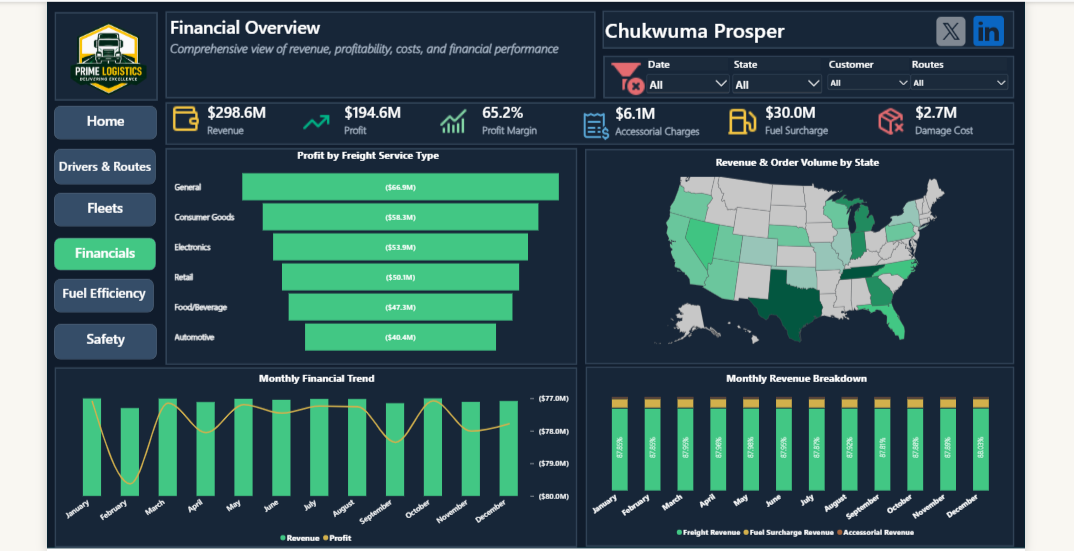

Layout of this report page (visuals, bound fields, positions):
{"tool":"powerbi","page":{"name":"Financials","canvas":[1920,1080],"ordinal":3},"visuals":[{"type":"textbox","title":"Financial Overview","box":[241.5,24.8,834.1,167.2],"z":0},{"type":"cardVisual","fields":{"Data":["loads.Total Revenue"]},"box":[298.2,194.4,208.5,82.6],"z":0,"group":"g2"},{"type":"group","id":"g1","title":"Group 6","box":[496.7,194.4,270.7,81.6],"z":0,"group":"g7"},{"type":"group","id":"g2","title":"Group 7","box":[236.3,194.4,268.6,83.8],"z":1000,"group":"g7"},{"type":"lineClusteredColumnComboChart","title":"Monthly Financial Trend","fields":{"Category":["loads.load_date.Variation.Date Hierarchy.Month"],"Y":["loads.Total Revenue"],"Y2":["loads.Profit"]},"box":[18.6,724.6,1024,342.7],"z":1000},{"type":"image","title":"Clear File","box":[1099.3,109,75,72.7],"z":2000},{"type":"group","id":"g3","title":"Group 1","box":[759.3,194.4,290.1,83.8],"z":2000,"group":"g7"},{"type":"cardVisual","fields":{"Data":["loads.Acc. Charges Revenue"]},"box":[1099.3,194.4,244.9,85.9],"z":2000,"group":"g4"},{"type":"image","box":[1806.5,21.6,84.4,70.7],"z":3000},{"type":"group","id":"g4","title":"Group 2","box":[1041.1,194.4,303.2,85.9],"z":3000,"group":"g7"},{"type":"image","box":[1726,23.6,98.2,68.7],"z":4000},{"type":"group","id":"g5","title":"Group 3","box":[1612.3,194.4,280.8,82.6],"z":4000,"group":"g7"},{"type":"cardVisual","fields":{"Data":["maintenance_records.Damage Cost"]},"box":[1688.7,194.4,204.4,82.6],"z":4000,"group":"g5"},{"type":"cardVisual","fields":{"Data":["loads.Profit"]},"box":[567.6,194.4,200.3,82.6],"z":5000,"group":"g1"},{"type":"group","id":"g6","title":"Group 4","box":[1336.1,194.4,284.4,82.6],"z":5000,"group":"g7"},{"type":"actionButton","box":[14.5,375.7,200.3,66.1],"z":5000},{"type":"actionButton","box":[14.5,544.2,196.1,66.1],"z":6000},{"type":"actionButton","box":[14.5,462.9,200.3,64],"z":7000},{"type":"cardVisual","fields":{"Data":["loads.Profit Margin"]},"box":[839.8,194.4,208.5,82.6],"z":8000,"group":"g3"},{"type":"hundredPercentStackedColumnChart","title":"Monthly Revenue Breakdown","fields":{"Category":["loads.load_date.Variation.Date Hierarchy.Month"],"Y":["loads.Tot. Revenue","loads.Fuel Surcharge Revenue","loads.Acc. Charges Revenue"]},"box":[1059.1,724.6,834.1,342.7],"z":8000},{"type":"actionButton","box":[14.5,631.7,202.3,70.2],"z":9000},{"type":"actionButton","box":[14.5,287.8,200.3,70.2],"z":10000},{"type":"actionButton","box":[14.5,204.4,202.3,66.1],"z":11000},{"type":"textbox","title":"Chukwuma Prosper","box":[1096.3,26.8,491.4,64],"z":12000},{"type":"image","box":[18.6,24.8,196.1,167.2],"z":13000},{"type":"shapeMap","title":"Revenue & Order Volume by State","fields":{"Category":["facilities.state"],"Value":["loads.Total Revenue"]},"box":[1057,287,834.1,415],"z":14000},{"type":"cardVisual","fields":{"Data":["loads.Fuel Surcharge Revenue"]},"box":[1395.4,194.4,225,82.6],"z":15000,"group":"g6"},{"type":"funnel","title":"Profit by Freight Service Type","fields":{"Category":["customers.primary_freight_type"],"Y":["loads.Profit"]},"box":[241.5,287,784.5,415],"z":15000},{"type":"group","id":"g7","title":"Group 5","box":[236.3,194.4,1656.8,85.9],"z":16000},{"type":"image","box":[496.7,208.5,64,55.8],"z":16000,"group":"g1"},{"type":"slicer","fields":{"Values":["loads.load_date.Variation.Date Hierarchy.Year","loads.load_date.Variation.Date Hierarchy.Month"]},"box":[1172.6,107.4,173.4,84.6],"z":17000},{"type":"image","box":[759.3,206.8,80.5,55.7],"z":17000,"group":"g3"},{"type":"slicer","fields":{"Values":["facilities.state"]},"box":[1341.2,107.4,185.8,74.3],"z":18000},{"type":"image","box":[1041.1,211.5,70.2,61.9],"z":18000,"group":"g4"},{"type":"slicer","fields":{"Values":["customers.customer_name"]},"box":[1527.7,107.4,173.4,80.5],"z":19000},{"type":"image","box":[1612.3,205.9,88.8,57.3],"z":19000,"group":"g5"},{"type":"slicer","fields":{"Values":["routes.Routes"]},"box":[1690.8,107.4,202.3,74.3],"z":20000},{"type":"image","box":[1336.1,204.1,60.4,61.9],"z":20000,"group":"g6"},{"type":"image","box":[236.3,201.1,72.3,58],"z":24000,"group":"g2"}]}

Visuals, with their boxes on the page's 1920x1080 design canvas (x1, y1, x2, y2). These are canvas units, not pixel positions in the 1074x551 screenshot, which may show the page scaled, cropped or inside an application window:
"Financial Overview" textbox: <bbox>242, 25, 1076, 192</bbox>
cardVisual - loads.Total Revenue: <bbox>298, 194, 507, 277</bbox>
"Group 6" group: <bbox>497, 194, 767, 276</bbox>
"Group 7" group: <bbox>236, 194, 505, 278</bbox>
"Monthly Financial Trend" lineClusteredColumnComboChart: <bbox>19, 725, 1043, 1067</bbox>
"Clear File" image: <bbox>1099, 109, 1174, 182</bbox>
"Group 1" group: <bbox>759, 194, 1049, 278</bbox>
cardVisual - loads.Acc. Charges Revenue: <bbox>1099, 194, 1344, 280</bbox>
image: <bbox>1806, 22, 1891, 92</bbox>
"Group 2" group: <bbox>1041, 194, 1344, 280</bbox>
image: <bbox>1726, 24, 1824, 92</bbox>
"Group 3" group: <bbox>1612, 194, 1893, 277</bbox>
cardVisual - maintenance_records.Damage Cost: <bbox>1689, 194, 1893, 277</bbox>
cardVisual - loads.Profit: <bbox>568, 194, 768, 277</bbox>
"Group 4" group: <bbox>1336, 194, 1620, 277</bbox>
actionButton: <bbox>14, 376, 215, 442</bbox>
actionButton: <bbox>14, 544, 211, 610</bbox>
actionButton: <bbox>14, 463, 215, 527</bbox>
cardVisual - loads.Profit Margin: <bbox>840, 194, 1048, 277</bbox>
"Monthly Revenue Breakdown" hundredPercentStackedColumnChart: <bbox>1059, 725, 1893, 1067</bbox>
actionButton: <bbox>14, 632, 217, 702</bbox>
actionButton: <bbox>14, 288, 215, 358</bbox>
actionButton: <bbox>14, 204, 217, 270</bbox>
"Chukwuma Prosper" textbox: <bbox>1096, 27, 1588, 91</bbox>
image: <bbox>19, 25, 215, 192</bbox>
"Revenue & Order Volume by State" shapeMap: <bbox>1057, 287, 1891, 702</bbox>
cardVisual - loads.Fuel Surcharge Revenue: <bbox>1395, 194, 1620, 277</bbox>
"Profit by Freight Service Type" funnel: <bbox>242, 287, 1026, 702</bbox>
"Group 5" group: <bbox>236, 194, 1893, 280</bbox>
image: <bbox>497, 208, 561, 264</bbox>
slicer - loads.load_date.Variation.Date Hierarchy.Year x loads.load_date.Variation.Date Hierarchy.Month: <bbox>1173, 107, 1346, 192</bbox>
image: <bbox>759, 207, 840, 262</bbox>
slicer - facilities.state: <bbox>1341, 107, 1527, 182</bbox>
image: <bbox>1041, 212, 1111, 273</bbox>
slicer - customers.customer_name: <bbox>1528, 107, 1701, 188</bbox>
image: <bbox>1612, 206, 1701, 263</bbox>
slicer - routes.Routes: <bbox>1691, 107, 1893, 182</bbox>
image: <bbox>1336, 204, 1396, 266</bbox>
image: <bbox>236, 201, 309, 259</bbox>
